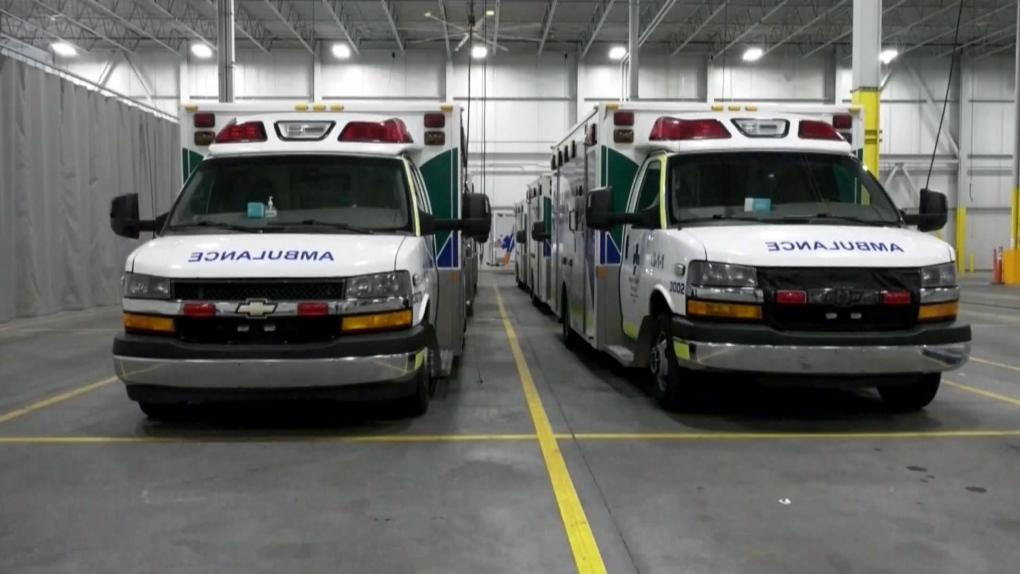ambulance_off: (516, 101, 974, 408), (111, 97, 494, 420)
